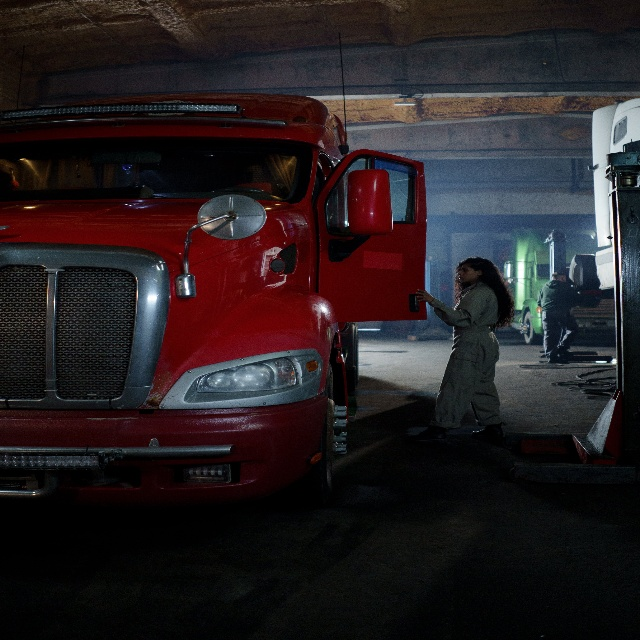Sin_guantes: (415, 288, 433, 304)
